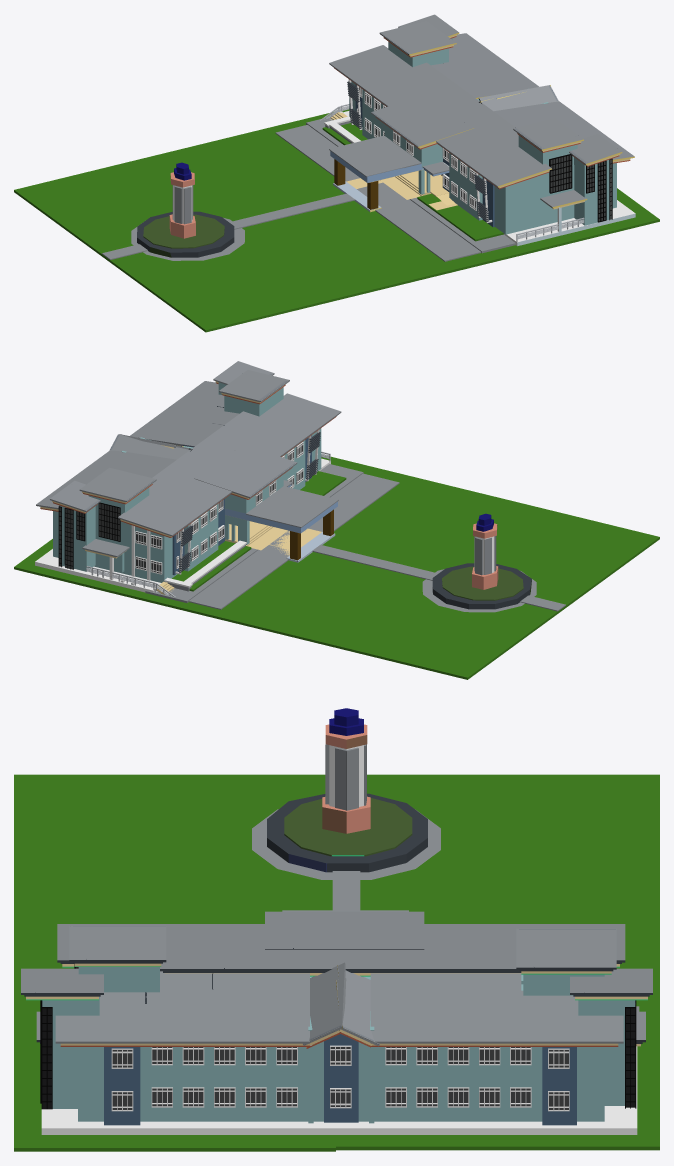
File: COM 1 (1).glb
3 views of the same model, one above another, from view 1: azimuth 30°, elevation 25°; view 2: azimuth 150°, elevation 25°; view 3: azimuth 270°, elevation 25° (orthographic). The views are drawn at different scales.
Visible parts, largest first — view 1: cube.062; view 2: cube.062; view 3: cube.062.
Part boxes in pixels (left/top/right/bottom): cube.062: left=14, top=14, right=659, bottom=332; cube.062: left=14, top=361, right=659, bottom=679; cube.062: left=14, top=708, right=659, bottom=1151.
Bounding box in the file's own units: 31.94 × 5.68 × 23.31.
Materials: 25 (24 with a texture image).
